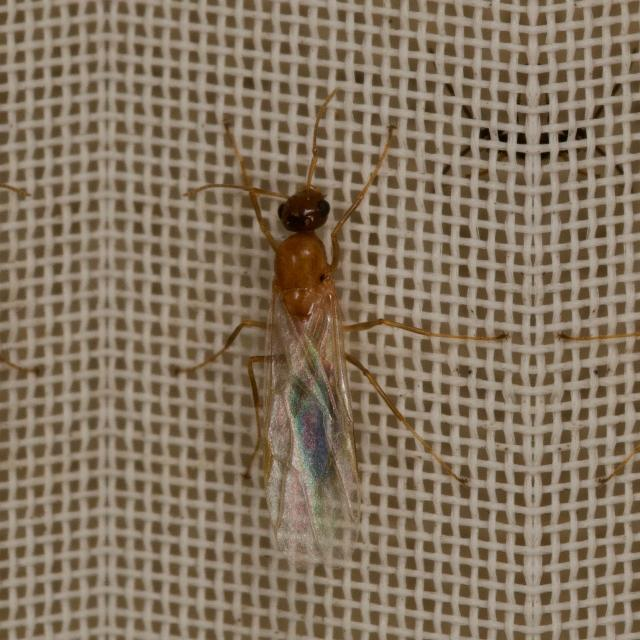Camponotus: (216, 125, 400, 609)
